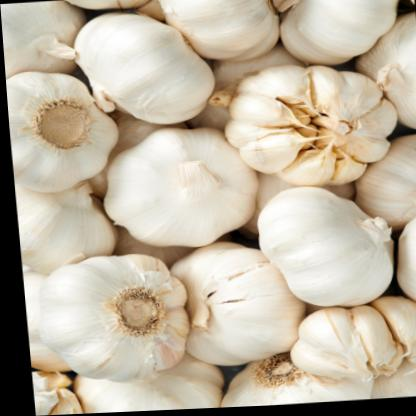garlic: (14, 228, 214, 393), (201, 55, 416, 207), (43, 0, 229, 150), (230, 175, 416, 320), (4, 60, 111, 193)
